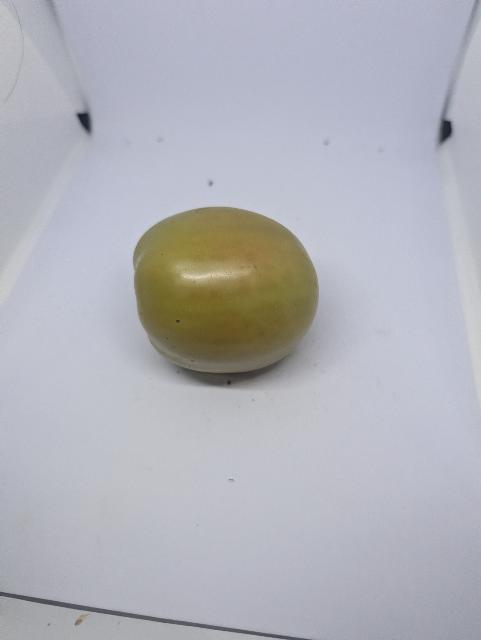breaker: (128, 203, 324, 377)
